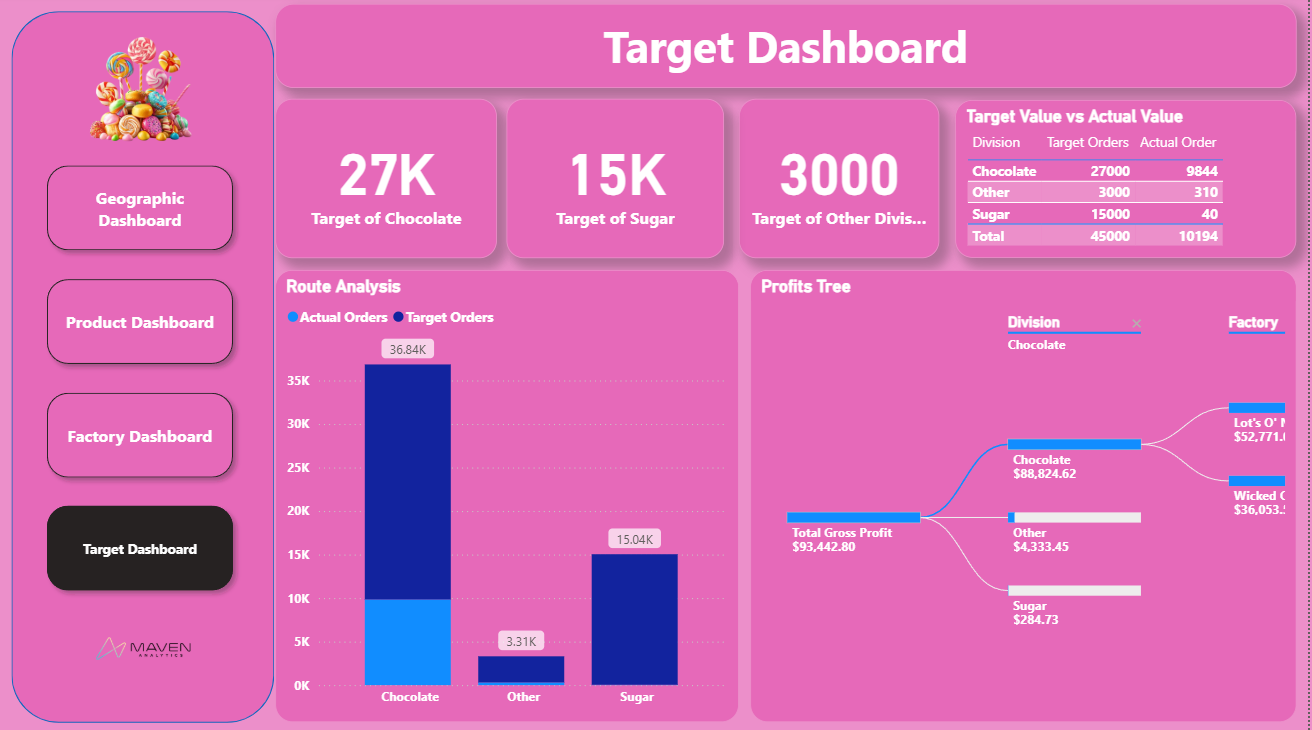

Layout of this report page (visuals, bound fields, positions):
{"tool":"powerbi","page":{"name":"Target Dashboard","canvas":[1280,720],"ordinal":4},"visuals":[{"type":"textbox","box":[269.9,8.3,999,82.1],"z":0},{"type":"card","title":"Profit Margin % by Product Name and Division","fields":{"Values":["Sum(Candy_Targets.Target)"]},"box":[269.9,101.6,217,155.8],"z":1000},{"type":"card","title":"Profit Margin % by Product Name and Division","fields":{"Values":["Sum(Candy_Targets.Target)"]},"box":[723.5,101.6,196.2,155.8],"z":2000},{"type":"card","title":"Profit Margin % by Product Name and Division","fields":{"Values":["Sum(Candy_Targets.Target)"]},"box":[496.7,101.6,212.9,155.8],"z":3000},{"type":"lineStackedColumnComboChart","title":"Route Analysis","fields":{"Category":["Candy_Targets.Division"],"Y":["CountNonNull(cleaned_sales.Order ID)","Sum(Candy_Targets.Target)"]},"box":[269.9,268.5,453.6,442.4],"z":4000},{"type":"tableEx","title":"Target Value vs Actual Value","fields":{"Values":["Candy_Targets.Division","Candy_Targets.Target","cleaned_sales.Order ID"]},"box":[935,103,333.9,154.4],"z":5000},{"type":"shape","box":[11.9,15.3,257,696.2],"z":7000,"group":"g1"},{"type":"decompositionTreeVisual","title":"Profits Tree","fields":{"Analyze":["Sum(cleaned_sales.Gross Profit)"],"ExplainBy":["cleaned_sales.Division","cleaned_sales.Factory"]},"box":[734.6,268.5,534.3,442.4],"z":7000},{"type":"group","id":"g1","title":"Group 1","box":[11.9,15.3,257,696.2],"z":7001},{"type":"pageNavigator","box":[37.6,157.7,200.9,435.7],"z":9000,"group":"g1"},{"type":"image","box":[78.3,32.3,119.1,117.4],"z":11000,"group":"g1"},{"type":"image","box":[90.2,583.8,102.1,108.9],"z":11500,"group":"g1"}]}

Visuals, with their boxes in screenshot pixels (x1, y1, x2, y2), scaled from the page's 1280x720 canvas onto the 1312x730 screenshot:
textbox: x1=277, y1=8, x2=1301, y2=92
"Profit Margin % by Product Name and Division" card: x1=277, y1=103, x2=499, y2=261
"Profit Margin % by Product Name and Division" card: x1=742, y1=103, x2=943, y2=261
"Profit Margin % by Product Name and Division" card: x1=509, y1=103, x2=727, y2=261
"Route Analysis" lineStackedColumnComboChart: x1=277, y1=272, x2=742, y2=721
"Target Value vs Actual Value" tableEx: x1=958, y1=104, x2=1301, y2=261
shape: x1=12, y1=16, x2=276, y2=721
"Profits Tree" decompositionTreeVisual: x1=753, y1=272, x2=1301, y2=721
"Group 1" group: x1=12, y1=16, x2=276, y2=721
pageNavigator: x1=39, y1=160, x2=244, y2=602
image: x1=80, y1=33, x2=202, y2=152
image: x1=92, y1=592, x2=197, y2=702
